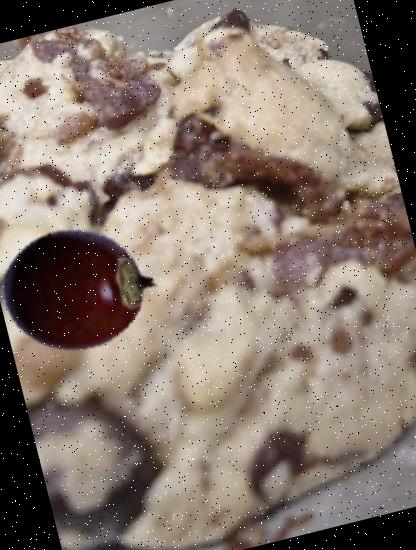Tamarillo: (0, 198, 168, 379)
